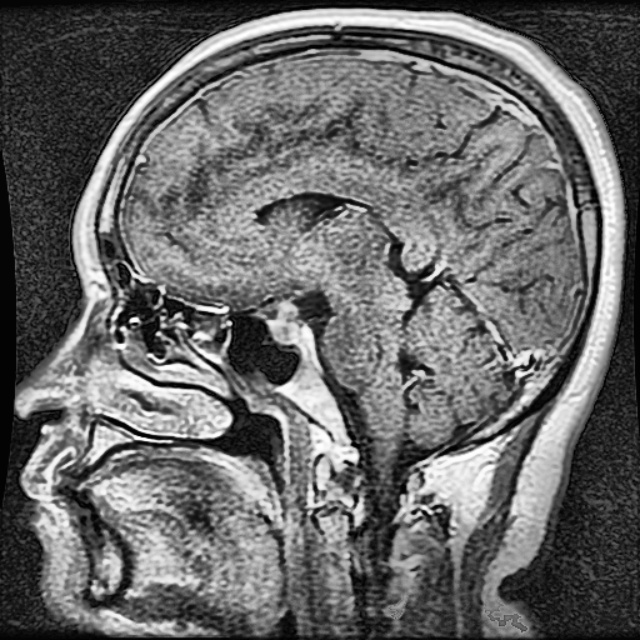Pituitary: (268, 303, 315, 363)
